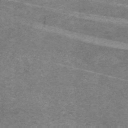finishing roll printing: (30, 20, 128, 51), (24, 2, 128, 24), (52, 62, 125, 80)
